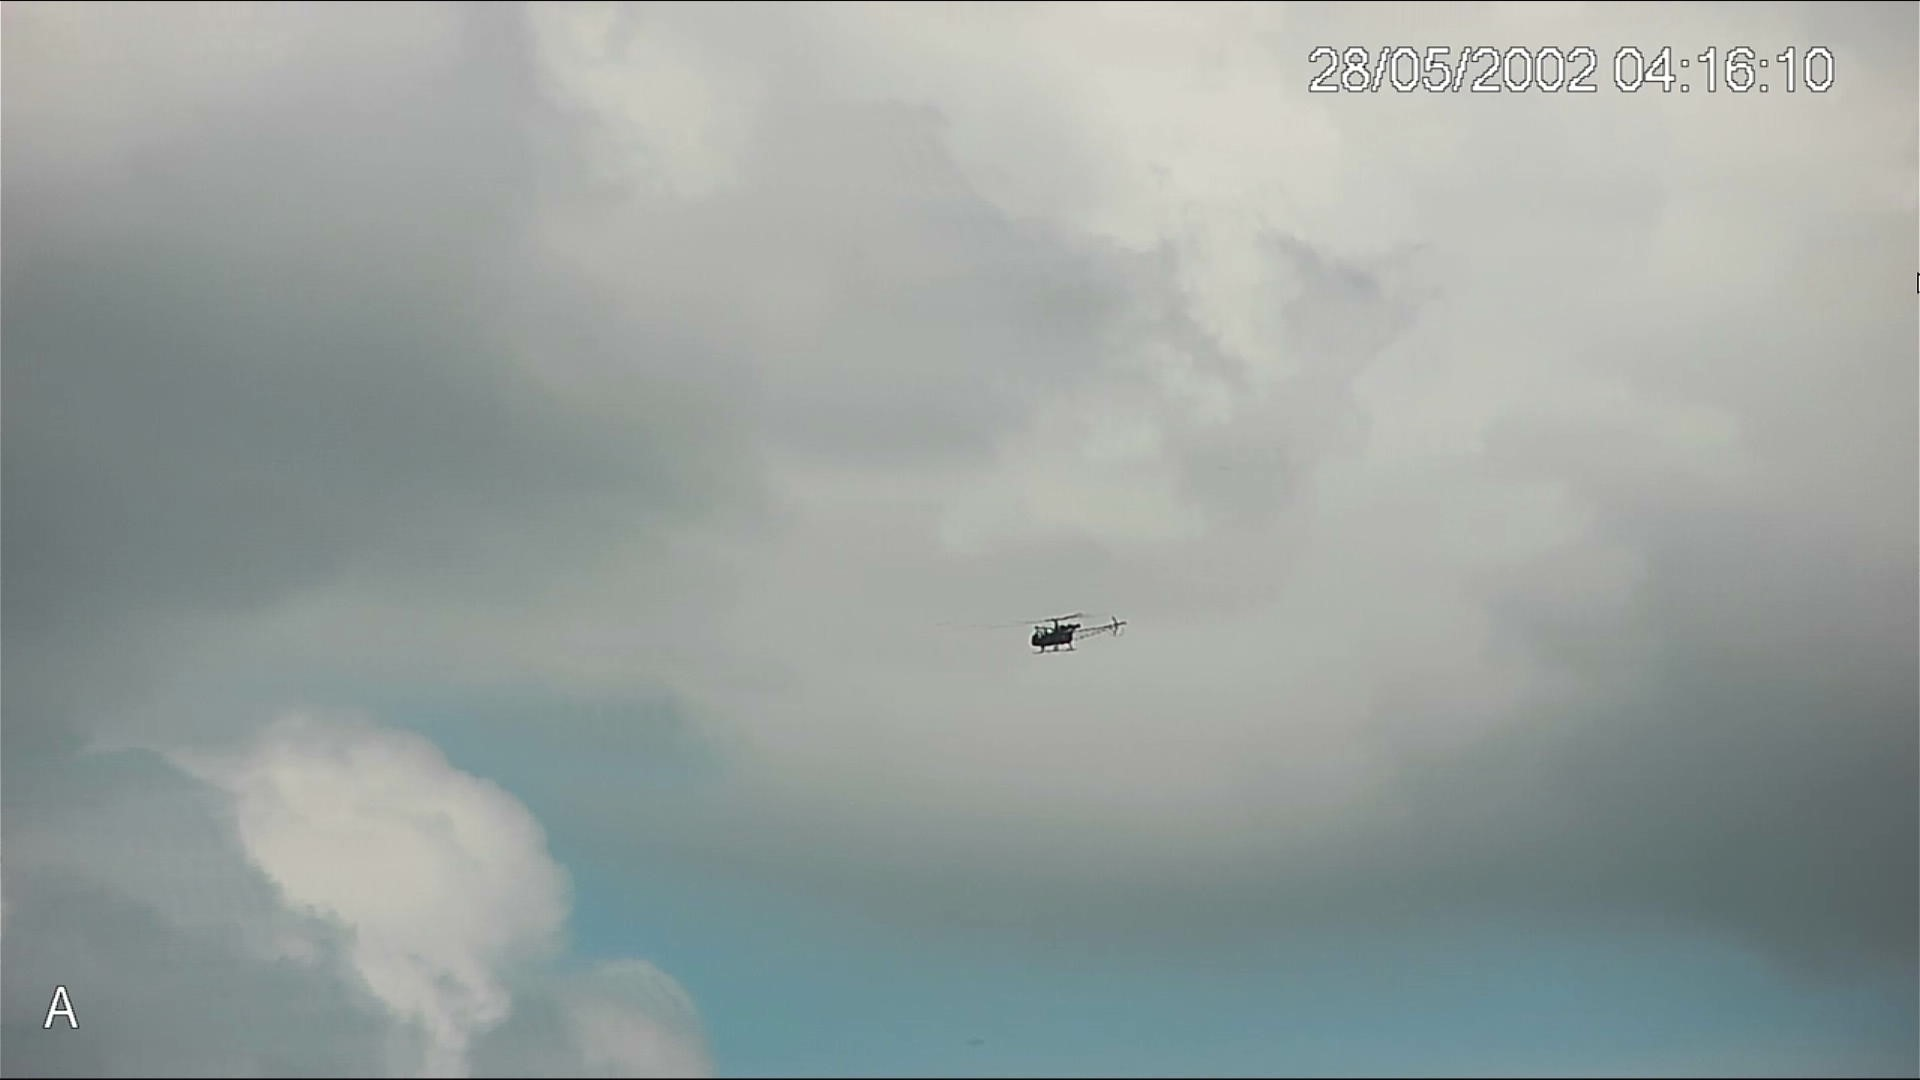SU_30: (1018, 613, 1126, 658)
